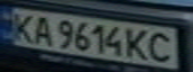1: (87, 22, 109, 54)
4: (103, 24, 127, 57)
6: (72, 20, 93, 52)
9: (51, 17, 75, 50)
A: (27, 13, 57, 46)
C: (145, 29, 178, 64)
K: (3, 10, 39, 43), (124, 26, 151, 61)
